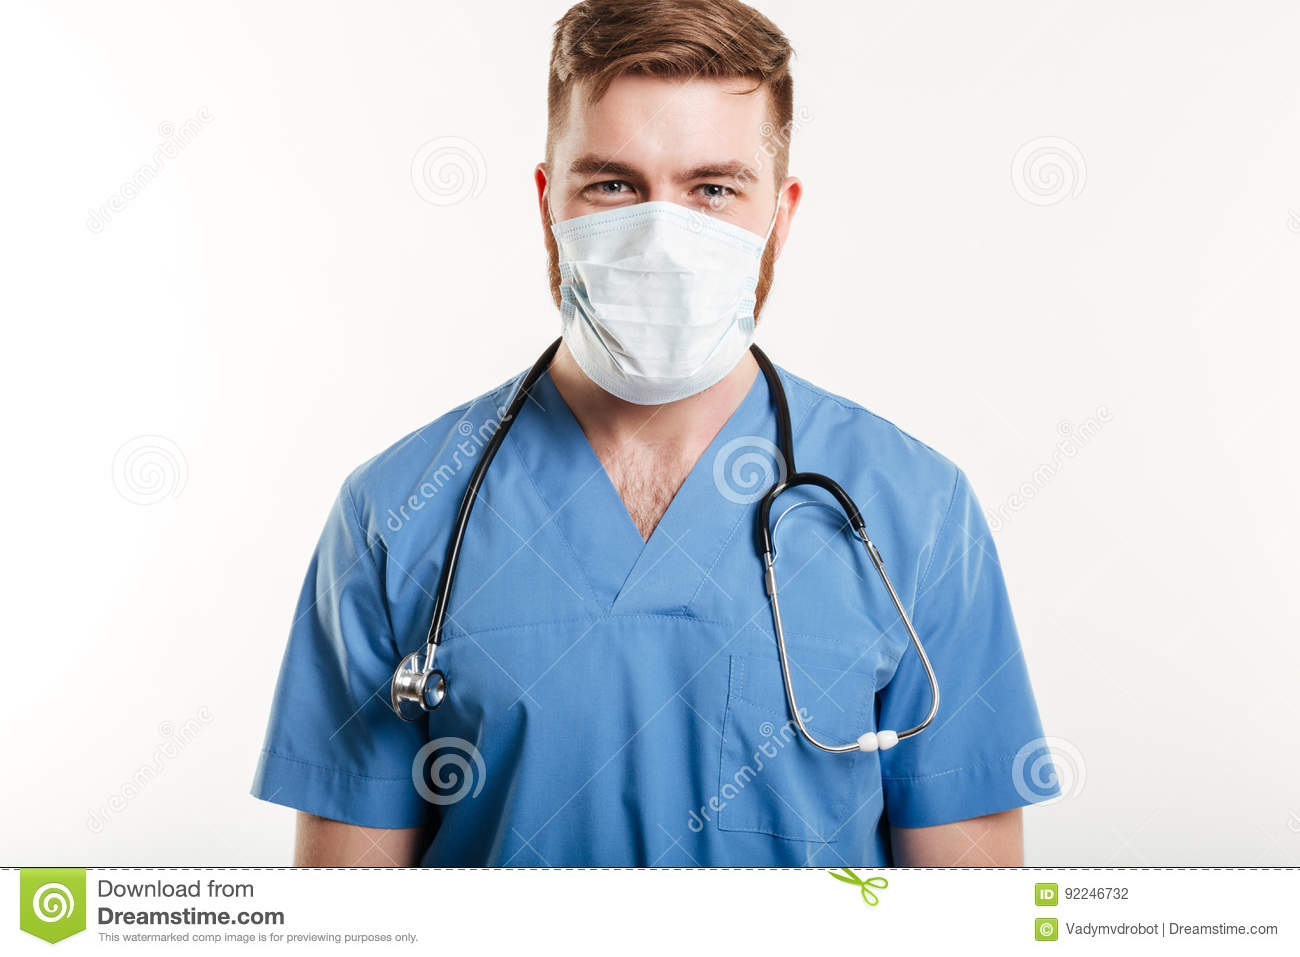mask: (531, 213, 781, 398)
